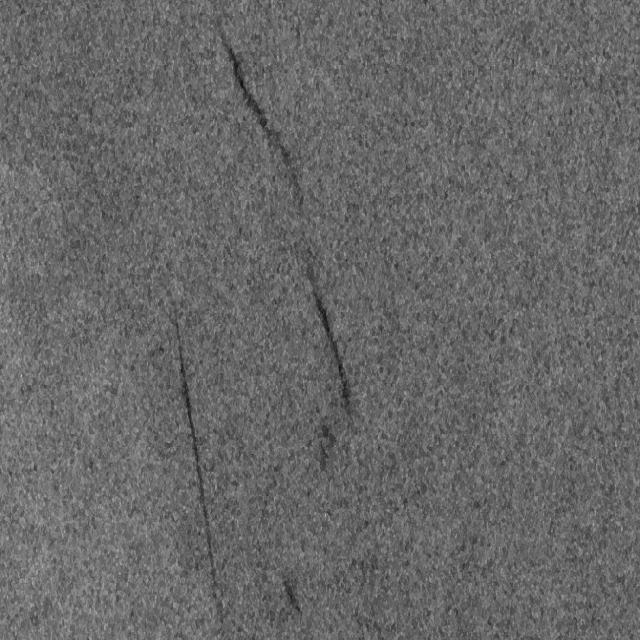look-alike: (213, 13, 311, 205), (306, 272, 358, 415), (275, 560, 306, 618), (308, 422, 342, 472)
oil-spill: (165, 314, 235, 620)
